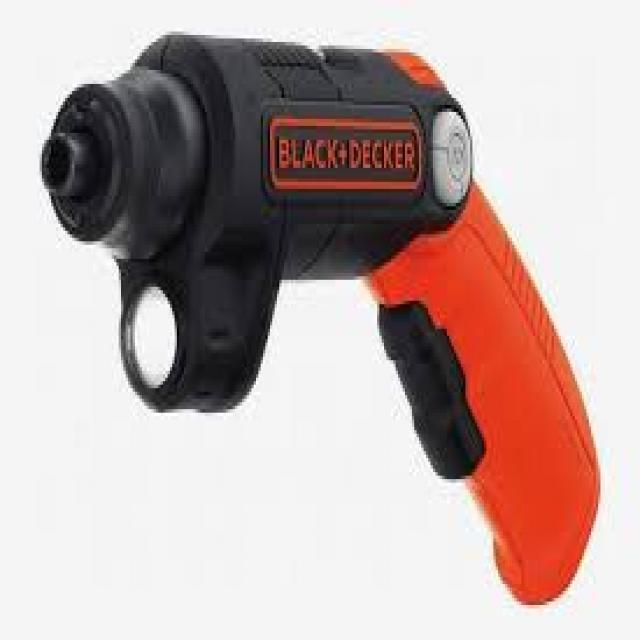drill: (41, 17, 620, 624)
